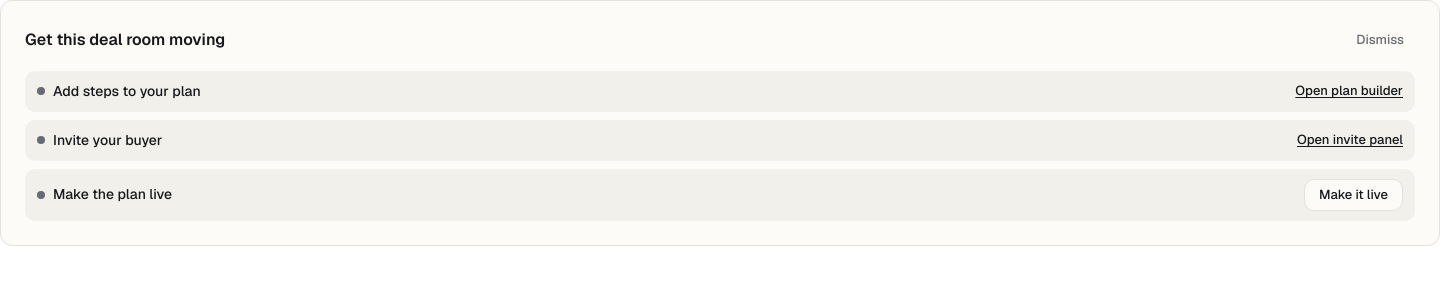
Test: ActivationChecklist — a stale page refused by the server (T60) › never offers an upgrade for the locked sample deal — a plain line, no CTA, no Signal
What coordinates should you click on to do the following:
click the button "Make it live"
I would click on:
 (1354, 194)
Its box is [1304,178,1403,210].
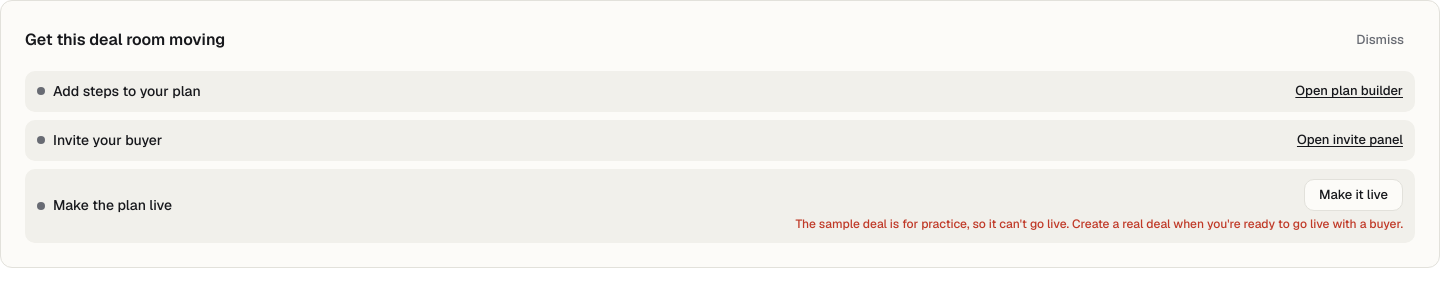
Expected: the message shows "The sample deal is for practice, so it can't go live. Create a real deal when you're ready to go live with a buyer.", [796,216,1403,232]
